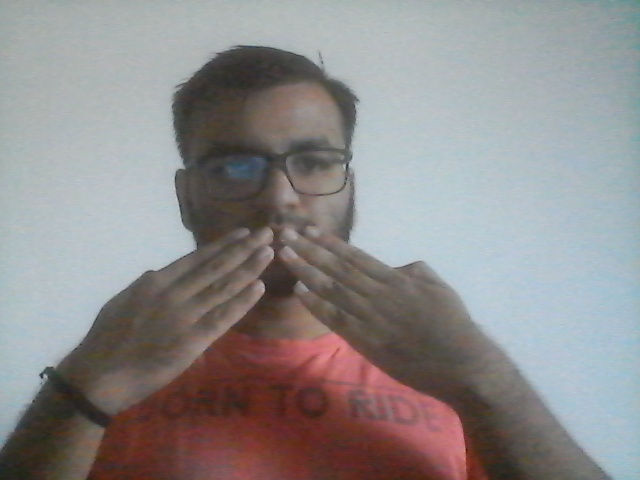Yes: (48, 214, 523, 403)
